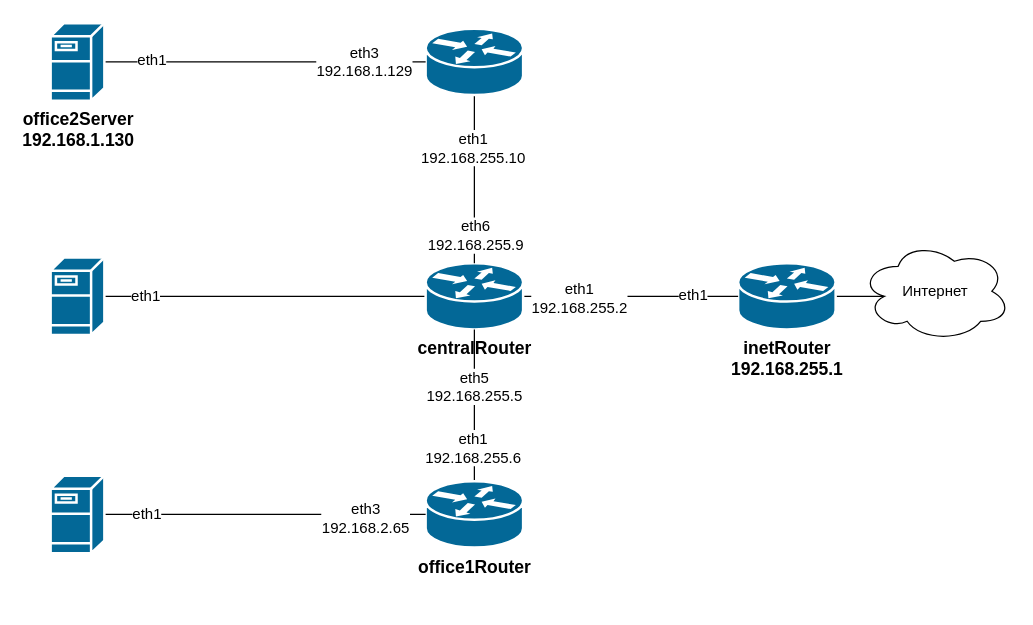
Image size: 1033x625. Some labels were removed from this diagram. Each missing label, with the centre of its shape:
centralServer 192.168.0.2: (x=77, y=296)
office1Server 192.168.2.66: (x=77, y=514)
office2Router: (x=474, y=61)
